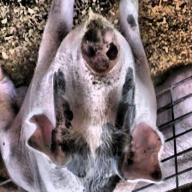boar: (0, 1, 166, 192)
